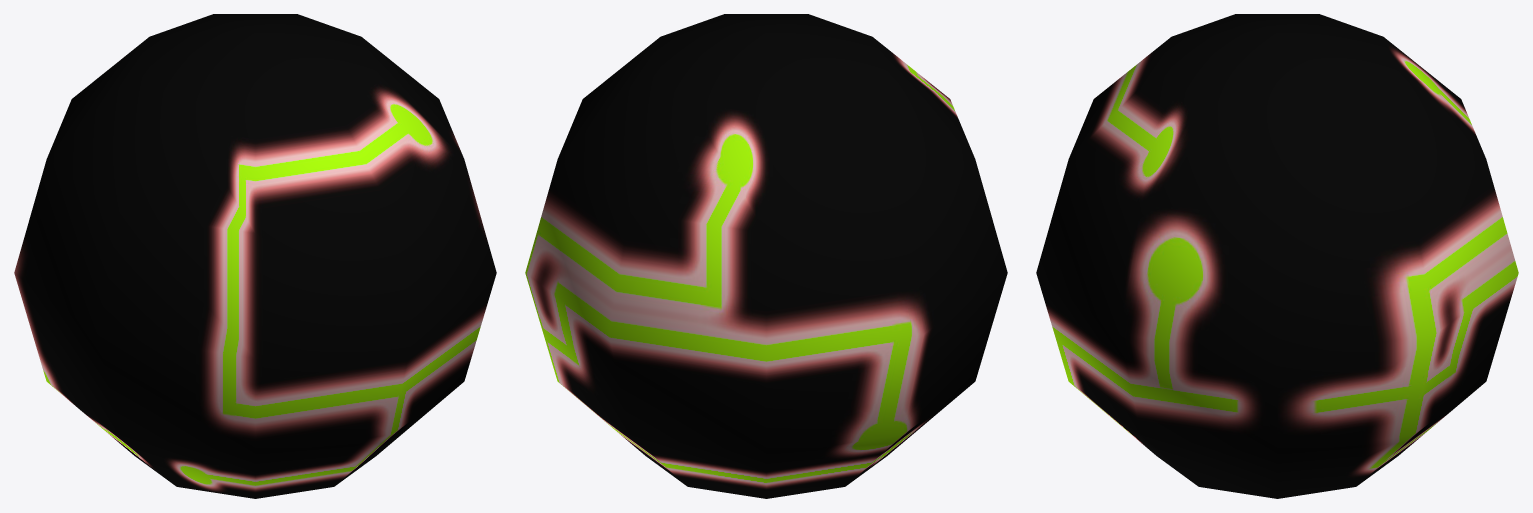
The model's file is colliderball.fbx.
3 views of the same model, side by side, from view 1: azimuth 30°, elevation 25°; view 2: azimuth 150°, elevation 25°; view 3: azimuth 270°, elevation 25° (orthographic).
Parts seen in each view (by area): view 1: pSphere1; view 2: pSphere1; view 3: pSphere1.
Boxes of the visible parts, x1,y1,x2,y2 form: pSphere1: (14, 14, 496, 498); pSphere1: (525, 14, 1007, 498); pSphere1: (1036, 14, 1518, 498).
Bounding box in the file's own units: 9.7 × 10 × 9.85.
